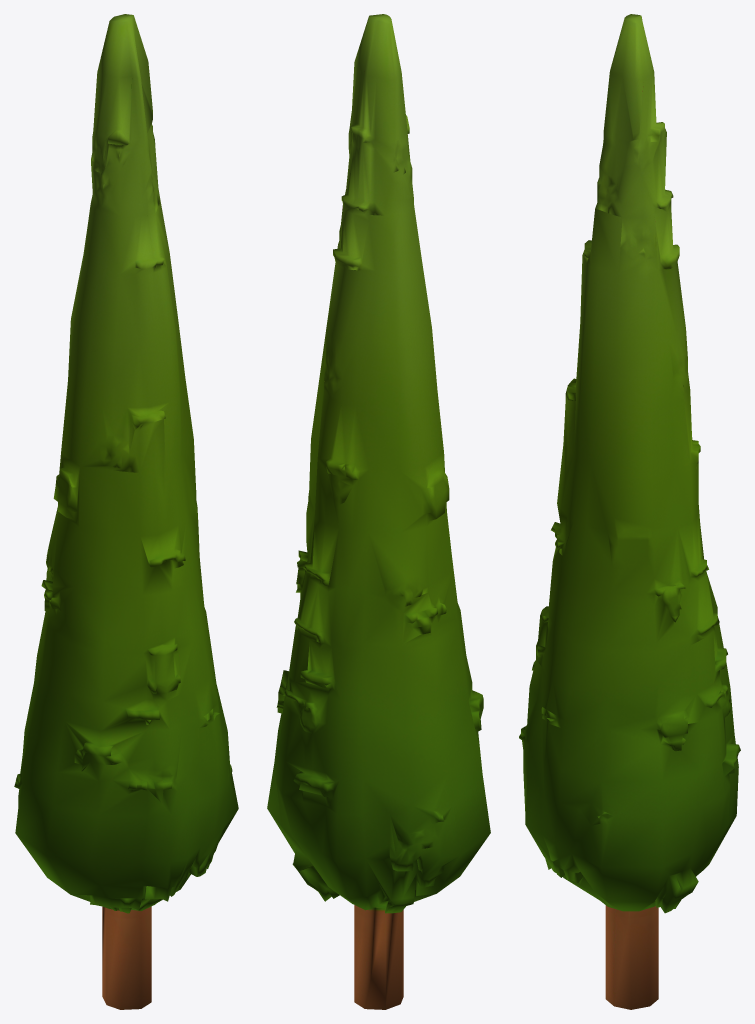
File: tree-tall.glb
3 renders of one model, left to right at view 1: azimuth 30°, elevation 25°; view 2: azimuth 150°, elevation 25°; view 3: azimuth 270°, elevation 25°, orthographic.
Parts seen in each view (by area): view 1: tripo_node_kodyurd-model-84____________________; view 2: tripo_node_kodyurd-model-84____________________; view 3: tripo_node_kodyurd-model-84____________________.
Part boxes in pixels (x1,y1,x2,y2): tripo_node_kodyurd-model-84____________________: (14, 14, 238, 1009); tripo_node_kodyurd-model-84____________________: (267, 14, 490, 1009); tripo_node_kodyurd-model-84____________________: (519, 14, 740, 1009).
Bounding box in the file's own units: 0.2051 × 0.998 × 0.2051.
Materials: 1 (1 with a texture image).
